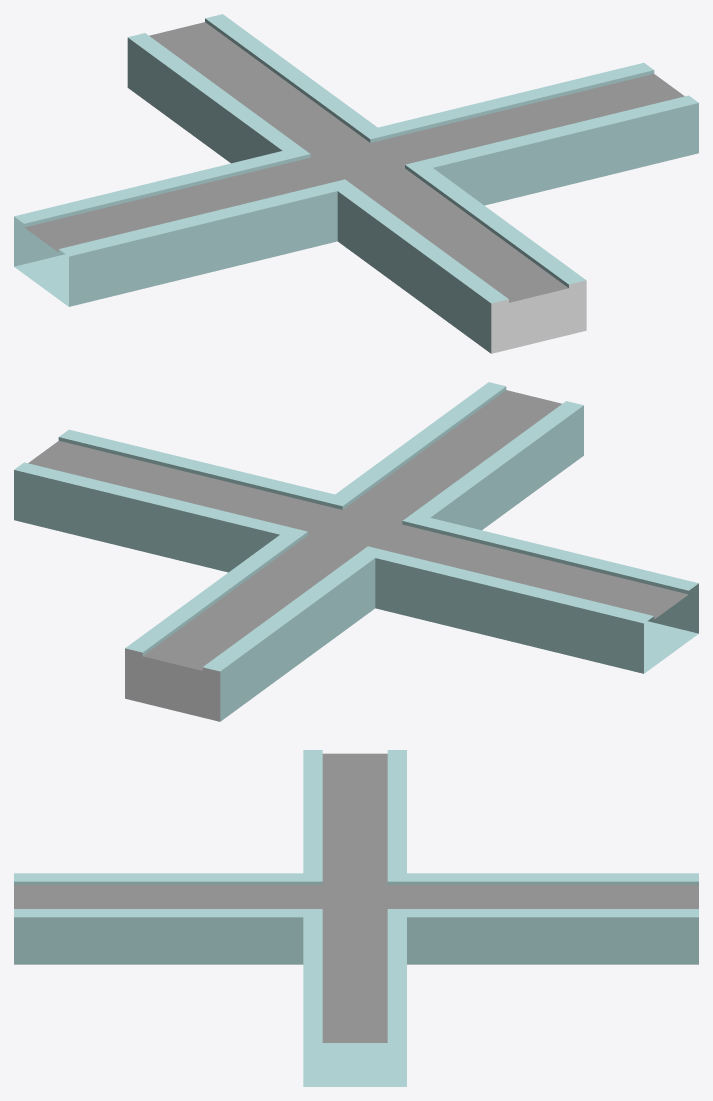
The model's file is cross.fbx.
The picture shows the model from 3 angles, top to bottom: view 1: azimuth 30°, elevation 25°; view 2: azimuth 150°, elevation 25°; view 3: azimuth 270°, elevation 25°; orthographic projection. The views are drawn at different scales.
Parts seen in each view (by area): view 1: cross; view 2: cross; view 3: cross.
Boxes of the visible parts, x1=… form: cross: x1=14, y1=14, x2=698, y2=353; cross: x1=14, y1=382, x2=698, y2=721; cross: x1=14, y1=750, x2=698, y2=1086.
Bounding box in the file's own units: 1345 × 103 × 1345.
